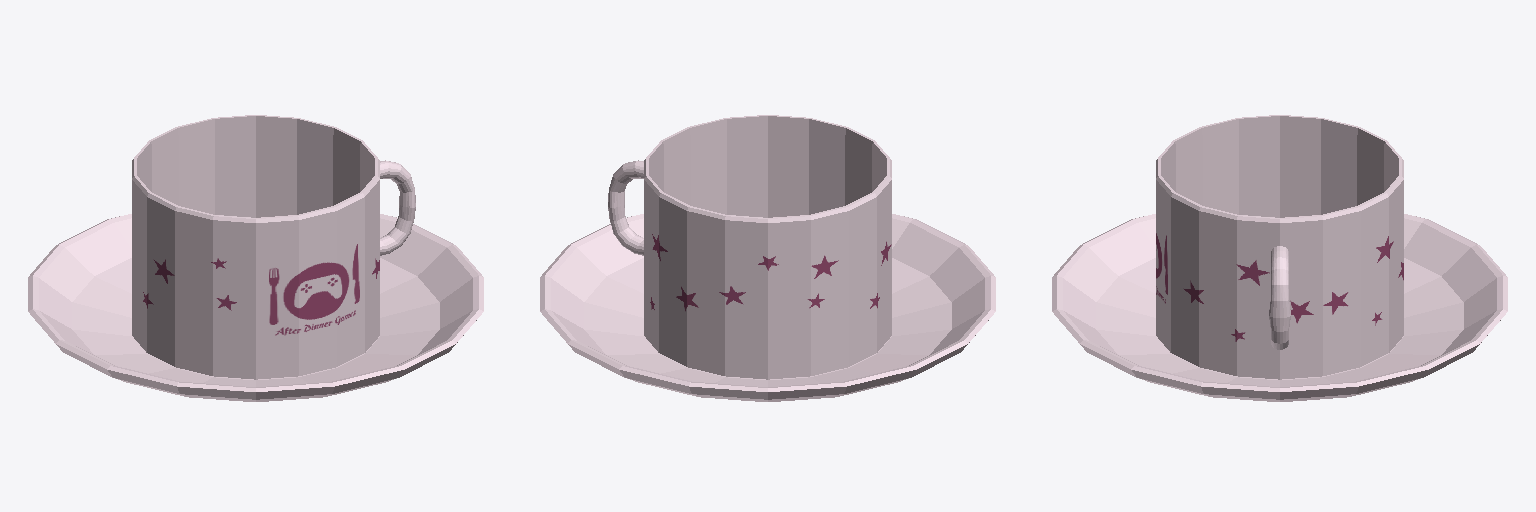
The picture shows the model from 3 angles: view 1: azimuth 30°, elevation 25°; view 2: azimuth 150°, elevation 25°; view 3: azimuth 270°, elevation 25°; orthographic projection.
Visible parts, largest first — view 1: pCylinder3, pCylinder2, pCylinder4; view 2: pCylinder3, pCylinder2, pCylinder4; view 3: pCylinder3, pCylinder2, pCylinder4.
Boxes of the visible parts, x1,y1,x2,y2 form: pCylinder3: [132, 115, 379, 379]; pCylinder2: [28, 214, 483, 401]; pCylinder4: [380, 160, 415, 255]; pCylinder3: [644, 115, 891, 379]; pCylinder2: [540, 214, 995, 401]; pCylinder4: [608, 160, 643, 255]; pCylinder3: [1156, 115, 1403, 379]; pCylinder2: [1052, 214, 1507, 401]; pCylinder4: [1269, 246, 1290, 349].
Size of the model in its own units: 1.79 by 0.7609 by 1.77.
1 materials, 1 textured.